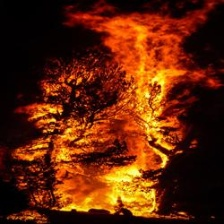fire: (10, 13, 188, 217)
